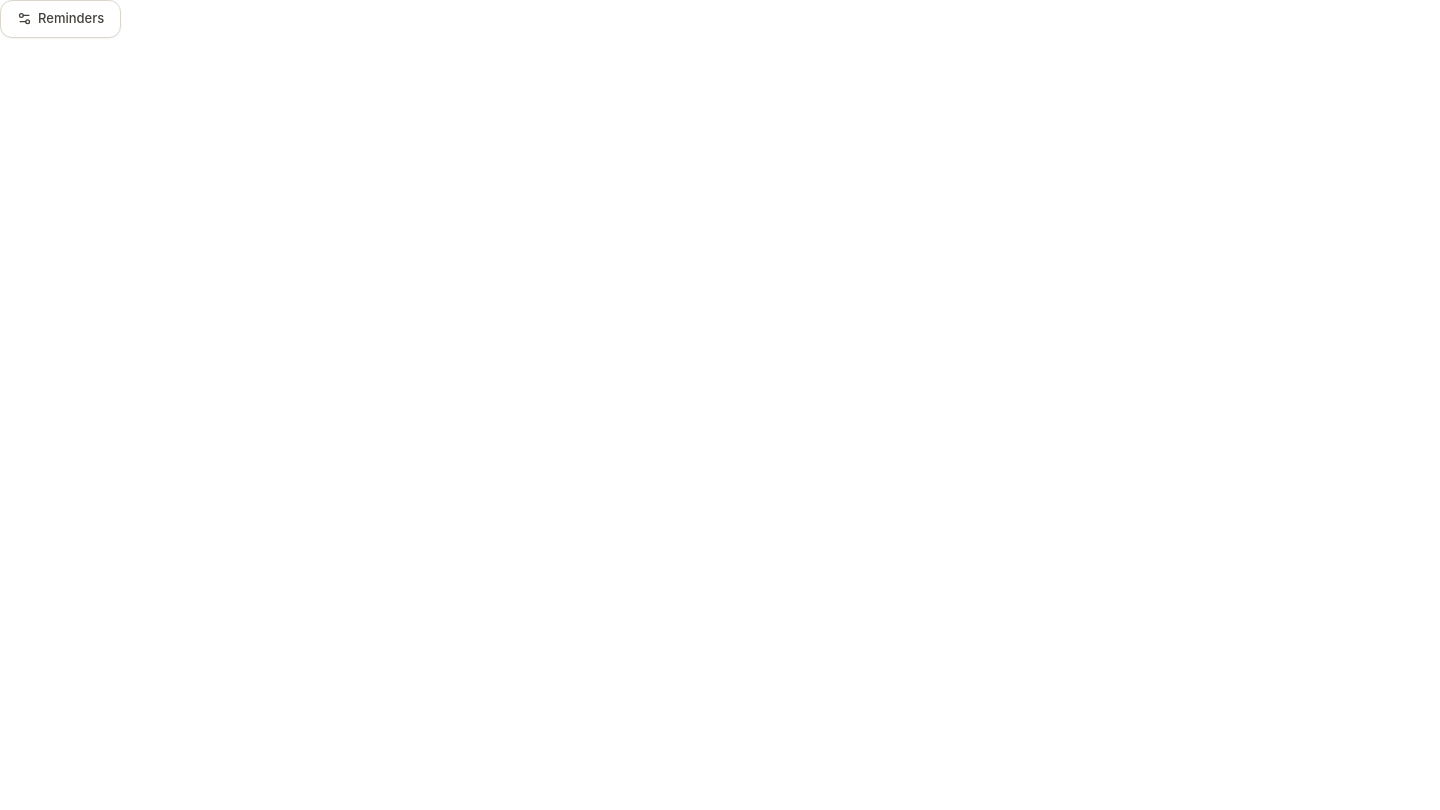
Test: reminder settings › sends a test notification from a secondary button
Click the button "Reminders" at (61, 19), box [0,0,121,38]
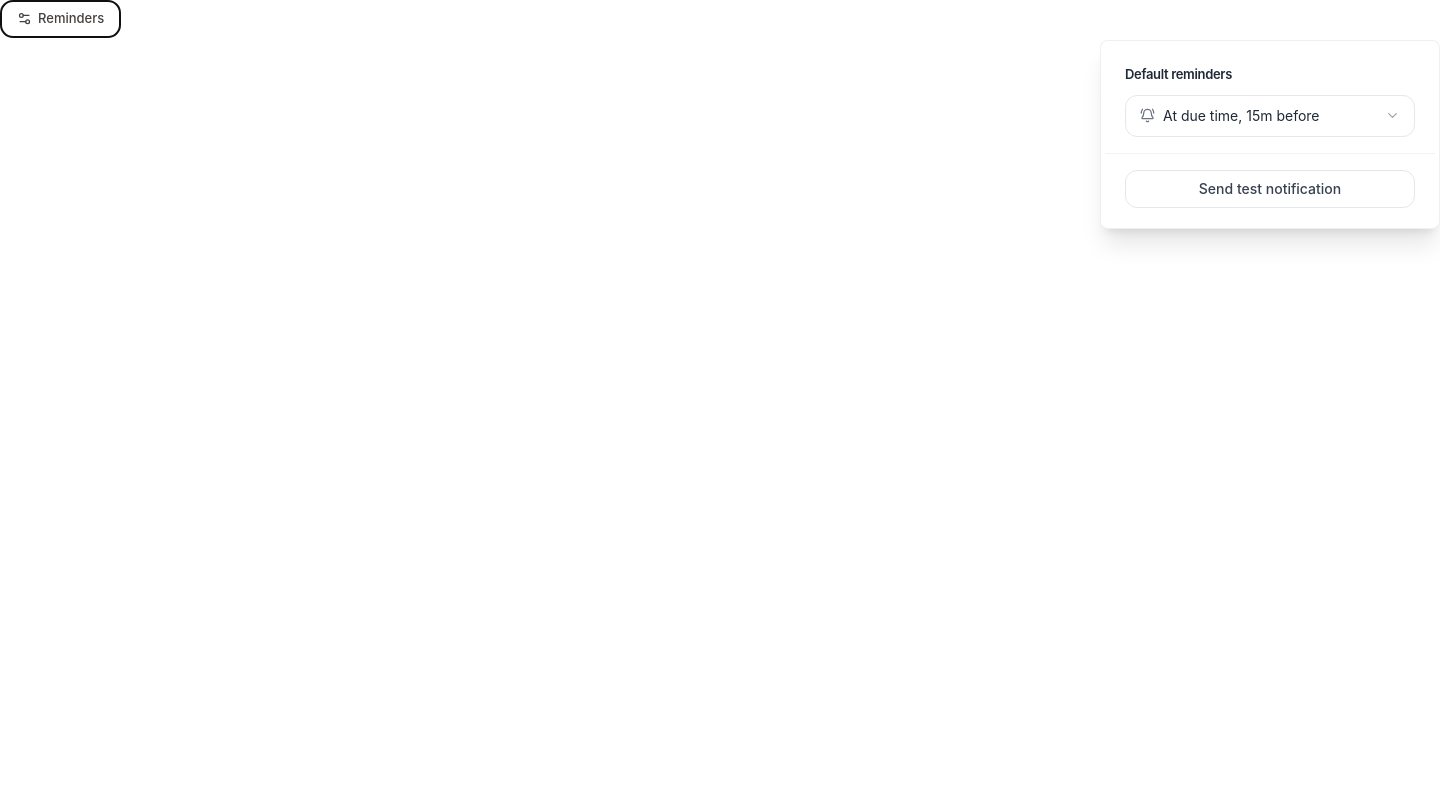
Click the button "Send test notification" at (1270, 188), box [1125,170,1415,208]
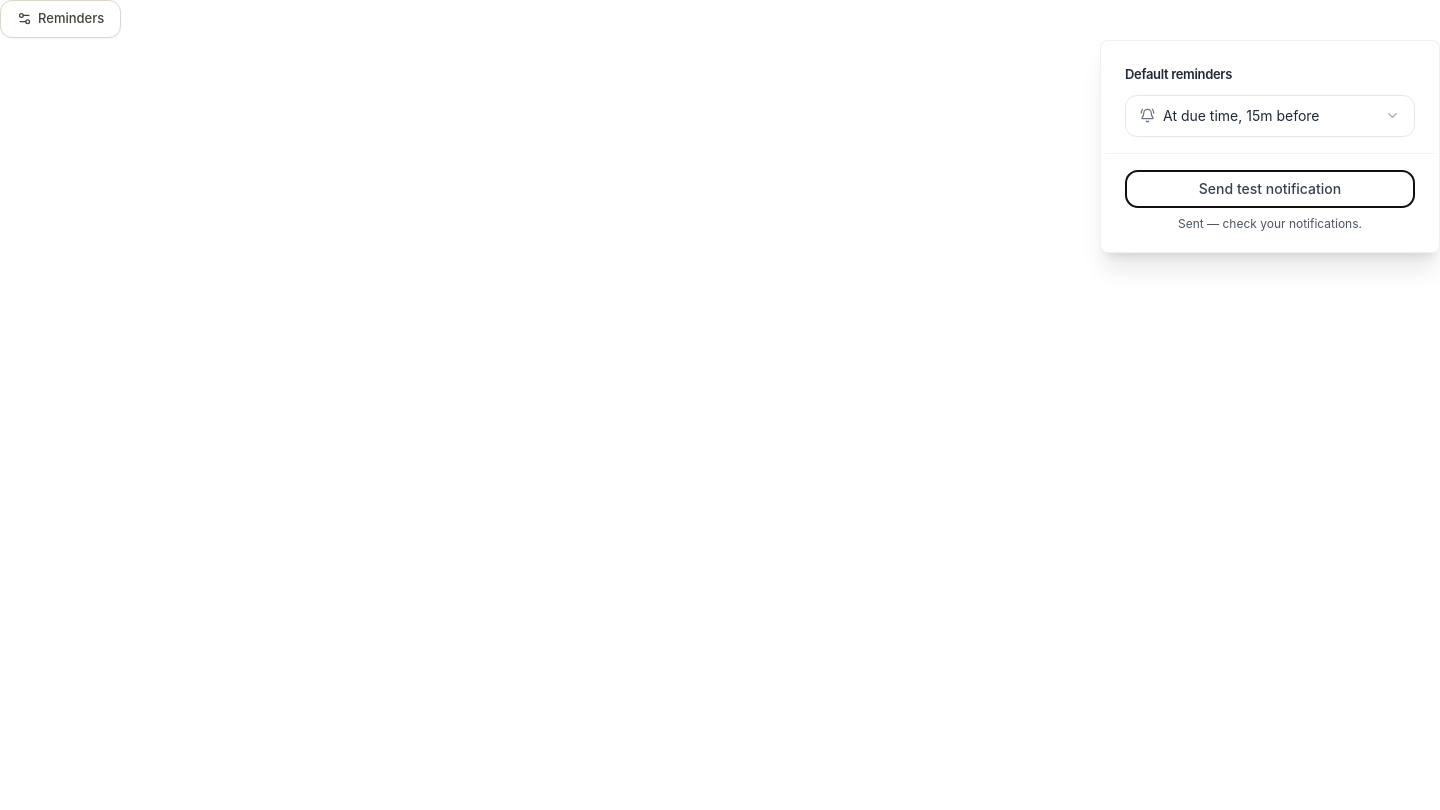
Expected: the message shows "Sent", [1178,216,1362,230]
